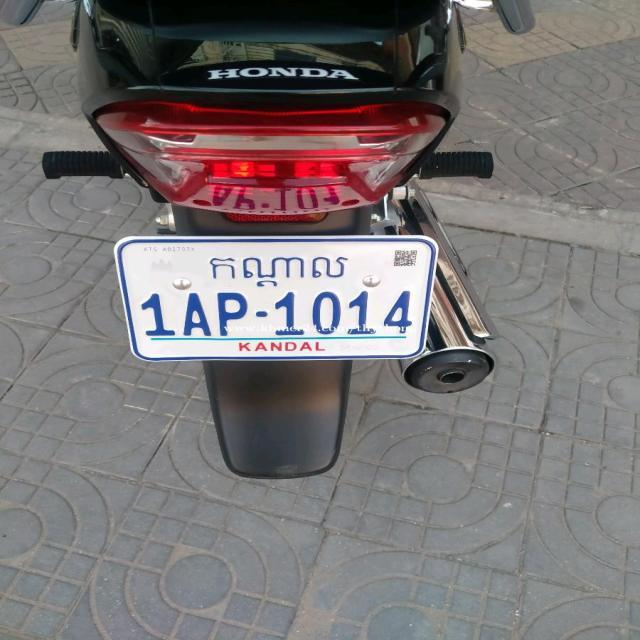Kandal: (206, 255, 349, 288)
